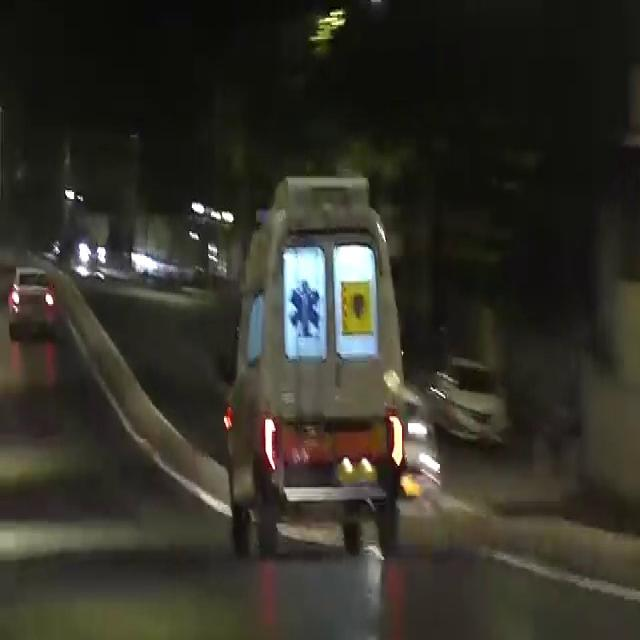ambulance: (226, 170, 426, 555)
